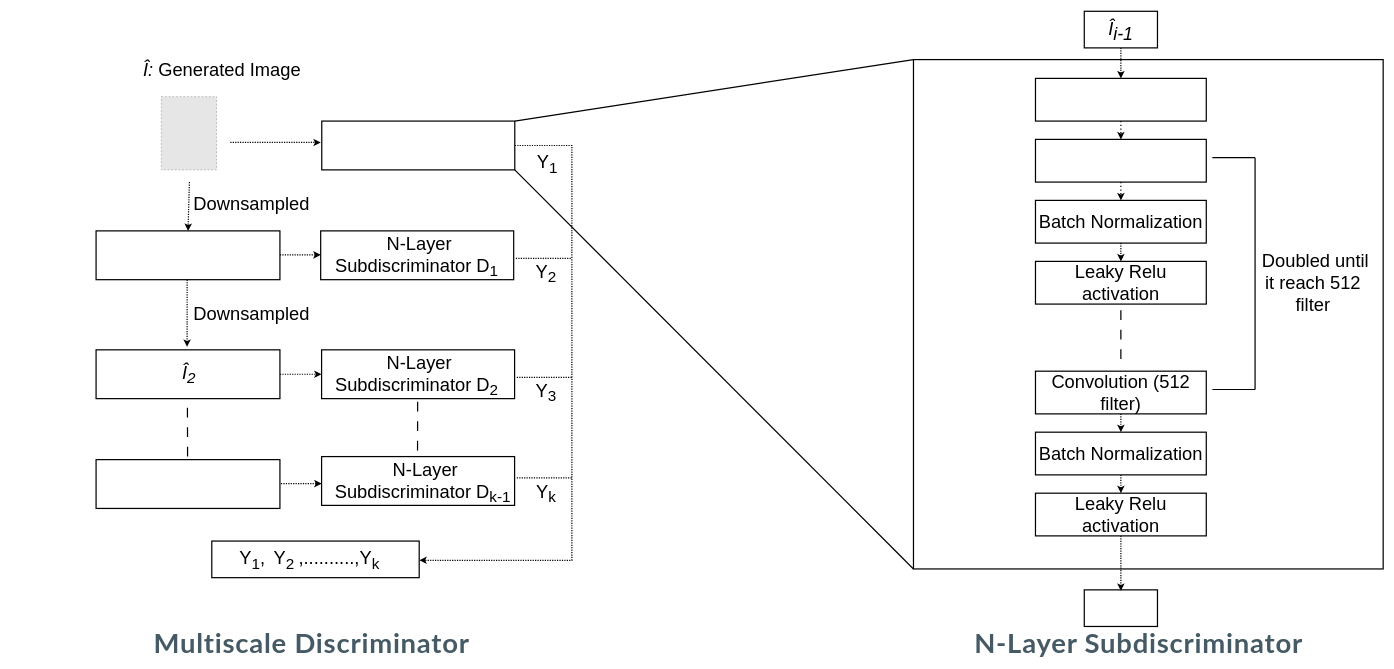
The diagram is 1394 pixels wide and 669 high, and some of its shapes have lost their labels. Grey dashed boxes stand in for pictures. The centre of each missing label's shape, as x and y in pixels:
"Convolution (64 filter)" goes at [1121,160].
"Î 1" goes at [187,255].
"Î k-1" goes at [187,484].
"N-Layer Subdiscriminator D 0" goes at [418,145].
"Pooling Layer (Down 2)" goes at [1121,99].
"Y i" goes at [1120,608].
